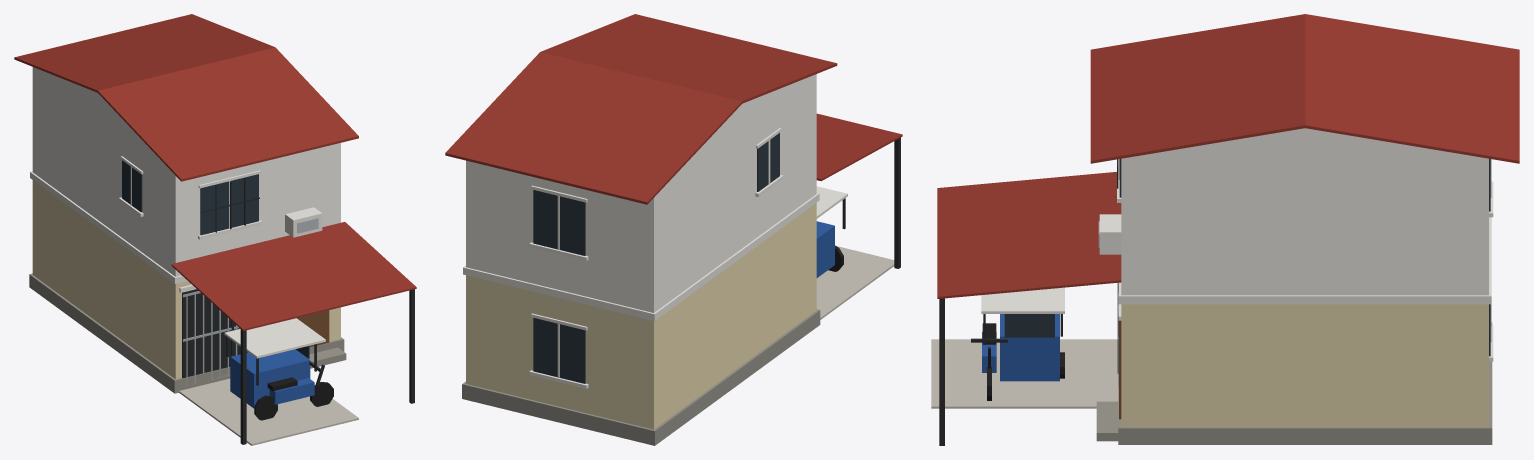
The model's file is BAY_F_TwoStorey_D.glb.
3 views of the same model, side by side, from view 1: azimuth 30°, elevation 25°; view 2: azimuth 150°, elevation 25°; view 3: azimuth 270°, elevation 25° (orthographic). The views are drawn at different scales.
Visible parts, largest first — view 1: BAY_F_TwoStorey_D; view 2: BAY_F_TwoStorey_D; view 3: BAY_F_TwoStorey_D.
Boxes of the visible parts, box(x1,y1,x2,y2) form: BAY_F_TwoStorey_D: box(14, 14, 416, 445); BAY_F_TwoStorey_D: box(445, 14, 902, 445); BAY_F_TwoStorey_D: box(931, 14, 1519, 445).
Size of the model in its own units: 4.3 by 5.8 by 9.6.
Materials: 1 (1 with a texture image).
